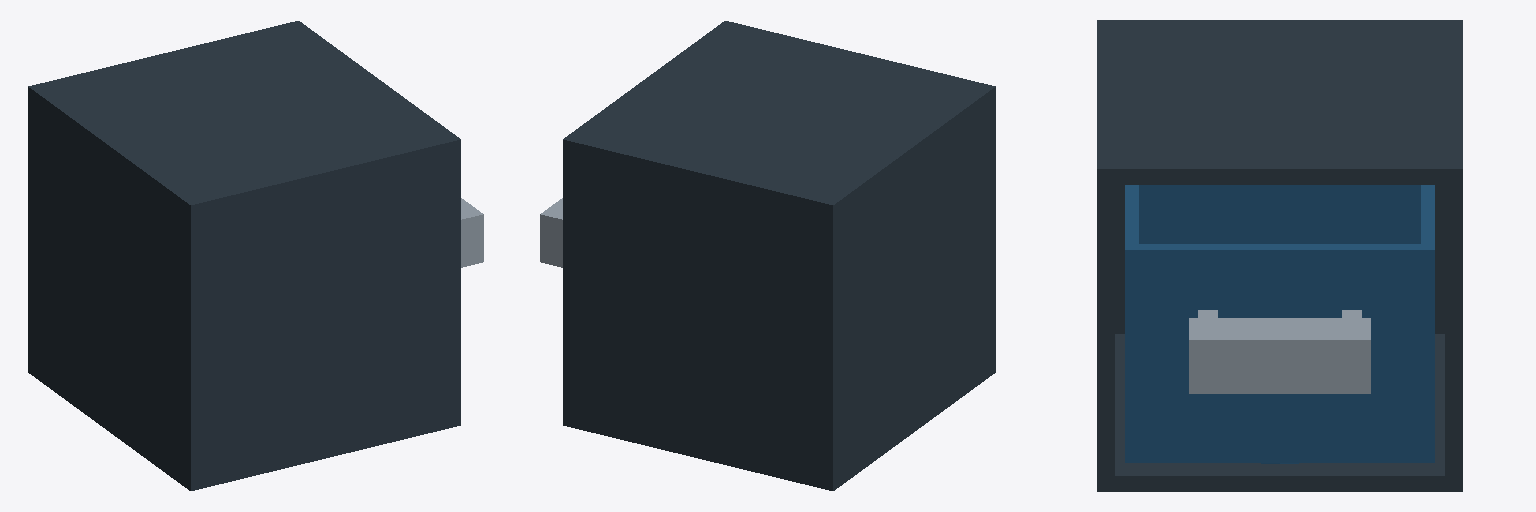
URDF robot description (guided_tabletop_drawer):
<?xml version='1.0' encoding='utf-8'?>
<!--
  Copyright (c) 2021-2026 DexForce Technology Co., Ltd.
  Licensed under the Apache License, Version 2.0 (the "License").
  You may obtain a copy of the License at http://www.apache.org/licenses/LICENSE-2.0.
  Distributed on an "AS IS" BASIS, WITHOUT WARRANTIES OR CONDITIONS OF ANY KIND.
-->
<robot name="guided_tabletop_drawer">
  <material name="frame">
    <color rgba=".23 .28 .32 1" />
  </material>
  <material name="tray">
    <color rgba=".20 .39 .53 1" />
  </material>
  <material name="handle">
    <color rgba=".63 .67 .71 1" />
  </material>
  <link name="outer_box">
    <inertial>
      <origin xyz="0 0 0.07" />
      <mass value="1.4" />
      <inertia ixx=".004" iyy=".005" izz=".006" ixy="0" ixz="0" iyz="0" />
    </inertial>
    <visual name="floor">
      <origin xyz="0 0 0.005" />
      <geometry>
        <box size="0.2 0.208 0.01" />
      </geometry>
      <material name="frame" />
    </visual>
    <collision name="floor">
      <origin xyz="0 0 0.005" />
      <geometry>
        <box size="0.2 0.208 0.01" />
      </geometry>
    </collision>
    <visual name="top">
      <origin xyz="0 0 0.197" />
      <geometry>
        <box size="0.2 0.208 0.01" />
      </geometry>
      <material name="frame" />
    </visual>
    <collision name="top">
      <origin xyz="0 0 0.197" />
      <geometry>
        <box size="0.2 0.208 0.01" />
      </geometry>
    </collision>
    <visual name="left">
      <origin xyz="0 0.099 0.101" />
      <geometry>
        <box size="0.2 0.01 0.182" />
      </geometry>
      <material name="frame" />
    </visual>
    <collision name="left">
      <origin xyz="0 0.099 0.101" />
      <geometry>
        <box size="0.2 0.01 0.182" />
      </geometry>
    </collision>
    <visual name="right">
      <origin xyz="0 -0.099 0.101" />
      <geometry>
        <box size="0.2 0.01 0.182" />
      </geometry>
      <material name="frame" />
    </visual>
    <collision name="right">
      <origin xyz="0 -0.099 0.101" />
      <geometry>
        <box size="0.2 0.01 0.182" />
      </geometry>
    </collision>
    <visual name="back">
      <origin xyz="-0.095 0 0.101" />
      <geometry>
        <box size="0.01 0.188 0.182" />
      </geometry>
      <material name="frame" />
    </visual>
    <collision name="back">
      <origin xyz="-0.095 0 0.101" />
      <geometry>
        <box size="0.01 0.188 0.182" />
      </geometry>
    </collision>
  </link>
  <link name="inner_box">
    <inertial>
      <origin xyz="0 0 0.07" />
      <mass value="0.35" />
      <inertia ixx=".004" iyy=".005" izz=".006" ixy="0" ixz="0" iyz="0" />
    </inertial>
    <visual name="base">
      <origin xyz="0 0 0.018" />
      <geometry>
        <box size="0.176 0.176 0.012" />
      </geometry>
      <material name="tray" />
    </visual>
    <collision name="base">
      <origin xyz="0 0 0.018" />
      <geometry>
        <box size="0.176 0.176 0.012" />
      </geometry>
    </collision>
    <visual name="left">
      <origin xyz="0 0.084 0.077" />
      <geometry>
        <box size="0.176 0.008 0.11" />
      </geometry>
      <material name="tray" />
    </visual>
    <collision name="left">
      <origin xyz="0 0.084 0.077" />
      <geometry>
        <box size="0.176 0.008 0.11" />
      </geometry>
    </collision>
    <visual name="right">
      <origin xyz="0 -0.084 0.077" />
      <geometry>
        <box size="0.176 0.008 0.11" />
      </geometry>
      <material name="tray" />
    </visual>
    <collision name="right">
      <origin xyz="0 -0.084 0.077" />
      <geometry>
        <box size="0.176 0.008 0.11" />
      </geometry>
    </collision>
    <visual name="back">
      <origin xyz="-0.084 0 0.077" />
      <geometry>
        <box size="0.008 0.16 0.11" />
      </geometry>
      <material name="tray" />
    </visual>
    <collision name="back">
      <origin xyz="-0.084 0 0.077" />
      <geometry>
        <box size="0.008 0.16 0.11" />
      </geometry>
    </collision>
    <visual name="front">
      <origin xyz="0.084 0 0.082" />
      <geometry>
        <box size="0.008 0.176 0.128" />
      </geometry>
      <material name="tray" />
    </visual>
    <collision name="front">
      <origin xyz="0.084 0 0.082" />
      <geometry>
        <box size="0.008 0.176 0.128" />
      </geometry>
    </collision>
    <visual name="mount_-0.041">
      <origin xyz="0.105 -0.041 0.1" />
      <geometry>
        <box size="0.034 0.011 0.016" />
      </geometry>
      <material name="handle" />
    </visual>
    <collision name="mount_-0.041">
      <origin xyz="0.105 -0.041 0.1" />
      <geometry>
        <box size="0.034 0.011 0.016" />
      </geometry>
    </collision>
    <visual name="mount_0.041">
      <origin xyz="0.105 0.041 0.1" />
      <geometry>
        <box size="0.034 0.011 0.016" />
      </geometry>
      <material name="handle" />
    </visual>
    <collision name="mount_0.041">
      <origin xyz="0.105 0.041 0.1" />
      <geometry>
        <box size="0.034 0.011 0.016" />
      </geometry>
    </collision>
    <visual name="handle">
      <origin xyz=".132 0 .100" />
      <geometry>
        <box size=".030 .103 .034" />
      </geometry>
      <material name="handle" />
    </visual>
    <collision name="handle">
      <origin xyz=".132 0 .100" />
      <geometry>
        <box size=".030 .103 .034" />
      </geometry>
    </collision>
    <visual name="insert_wall_0">
      <origin xyz="-0.06 0 .045" />
      <geometry>
        <box size=".009 .145 .042" />
      </geometry>
      <material name="tray" />
    </visual>
    <collision name="insert_wall_0">
      <origin xyz="-0.06 0 .045" />
      <geometry>
        <box size=".009 .145 .042" />
      </geometry>
    </collision>
    <visual name="insert_wall_1">
      <origin xyz="0.06 0 .045" />
      <geometry>
        <box size=".009 .145 .042" />
      </geometry>
      <material name="tray" />
    </visual>
    <collision name="insert_wall_1">
      <origin xyz="0.06 0 .045" />
      <geometry>
        <box size=".009 .145 .042" />
      </geometry>
    </collision>
    <visual name="liner">
      <origin xyz="0 0 .028" />
      <geometry>
        <cylinder radius=".087" length=".034" />
      </geometry>
      <material name="tray" />
    </visual>
    <collision name="liner">
      <origin xyz="0 0 .028" />
      <geometry>
        <cylinder radius=".087" length=".034" />
      </geometry>
    </collision>
  </link>
  <joint name="slide_rails" type="prismatic">
    <parent link="outer_box" />
    <child link="inner_box" />
    <axis xyz="1 0 0" />
    <limit effort="25" lower="0" upper=".20" velocity=".35" />
    <dynamics friction=".06" damping=".18" />
  </joint>
</robot>

--- Facts derived from the render (not from the file) ---
3 views of the same robot in one strip: view 1: azimuth 30°, elevation 25°; view 2: azimuth 150°, elevation 25°; view 3: azimuth 270°, elevation 25° (orthographic).
Robot: guided_tabletop_drawer — 2 links, 1 joints (1 prismatic); root link outer_box; default pose: all joints at 0.
Visible links, largest first — view 1: outer_box, inner_box; view 2: outer_box, inner_box; view 3: outer_box, inner_box.
Link boxes in pixels (x1=…): outer_box: x1=28, y1=21, x2=460, y2=490; inner_box: x1=461, y1=198, x2=483, y2=267; outer_box: x1=563, y1=21, x2=995, y2=490; inner_box: x1=540, y1=198, x2=562, y2=267; outer_box: x1=1097, y1=20, x2=1462, y2=491; inner_box: x1=1125, y1=185, x2=1434, y2=463.
Bounding box of the posed robot: 0.247 × 0.208 × 0.202 m (x, y, z).
Geometry: primitives only (box / cylinder / sphere), no mesh files.
